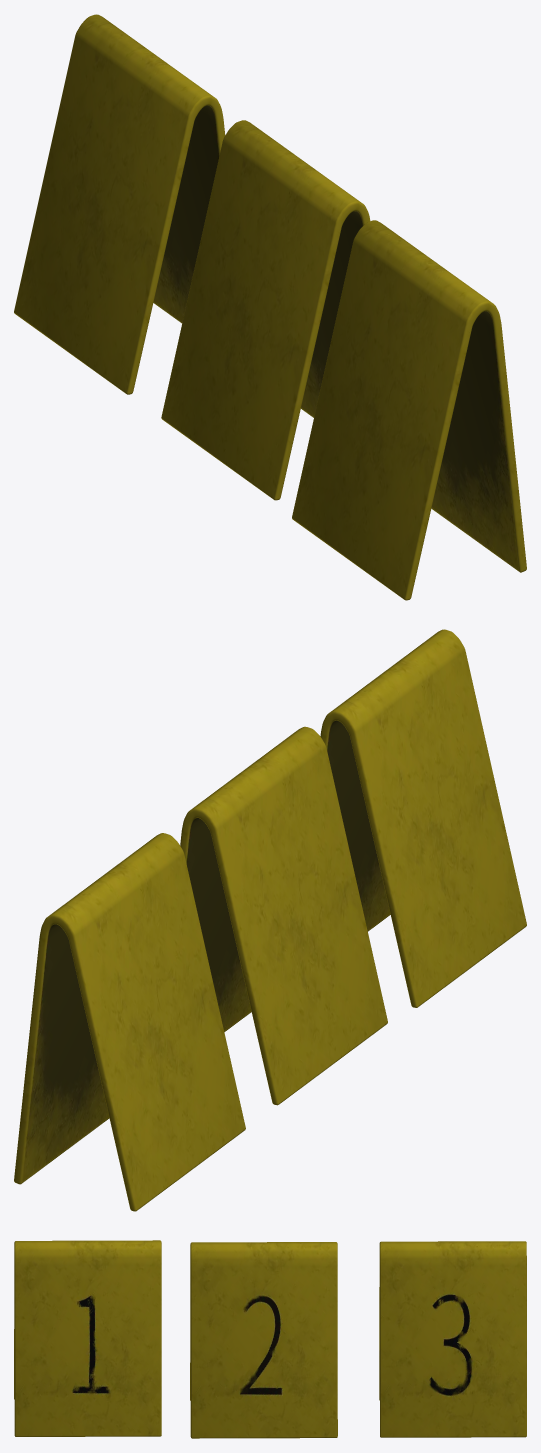
The model's file is crimetape.opt.glb.
3 views of the same model, one above another, from view 1: azimuth 30°, elevation 25°; view 2: azimuth 150°, elevation 25°; view 3: azimuth 270°, elevation 25° (orthographic). The views are drawn at different scales.
Visible parts, largest first — view 1: Plane.001_Material.001_0, Plane_Material.002_0, Plane.002_Material.003_0; view 2: Plane_Material.002_0, Plane.002_Material.003_0, Plane.001_Material.001_0; view 3: Plane_Material.002_0, Plane.001_Material.001_0, Plane.002_Material.003_0.
Part boxes in pixels (x1,y1,x2,y2): Plane.001_Material.001_0: (292, 220, 526, 600); Plane_Material.002_0: (14, 14, 225, 394); Plane.002_Material.003_0: (161, 120, 370, 500); Plane_Material.002_0: (14, 833, 245, 1211); Plane.002_Material.003_0: (180, 726, 387, 1105); Plane.001_Material.001_0: (320, 629, 526, 1007); Plane_Material.002_0: (379, 1241, 526, 1437); Plane.001_Material.001_0: (14, 1240, 161, 1436); Plane.002_Material.003_0: (190, 1242, 337, 1438).
Size of the model in its own units: 1.15 by 2.38 by 6.07.
Materials: 3 (3 with a texture image).
